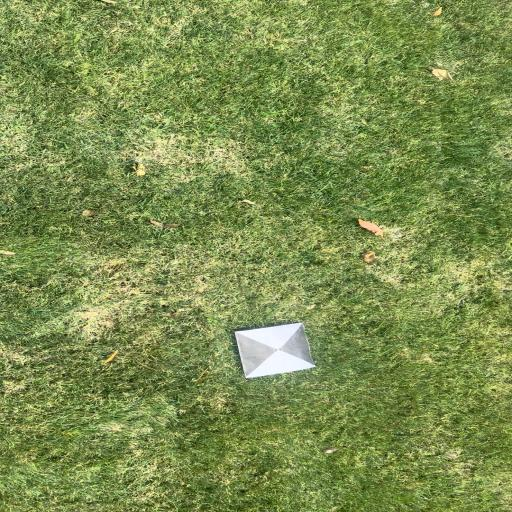target: (236, 322, 317, 377)
